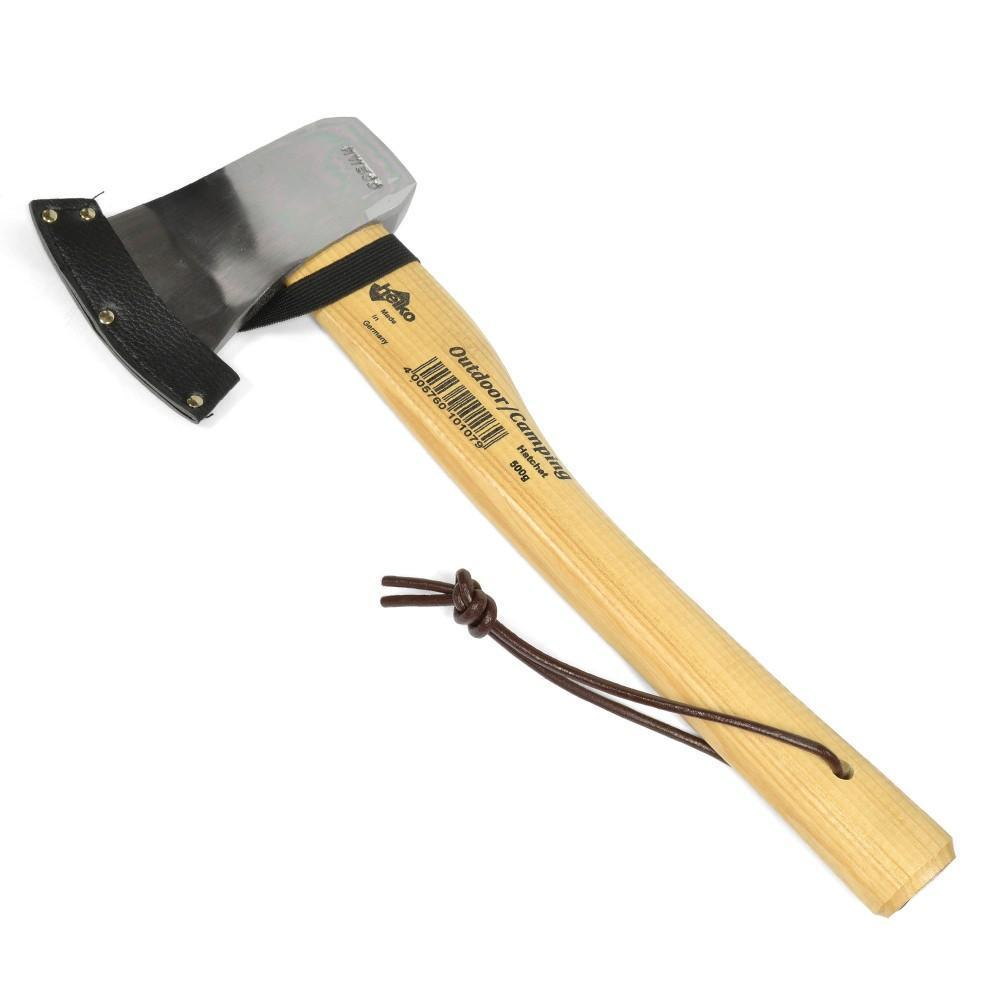machado: (30, 119, 954, 915)
